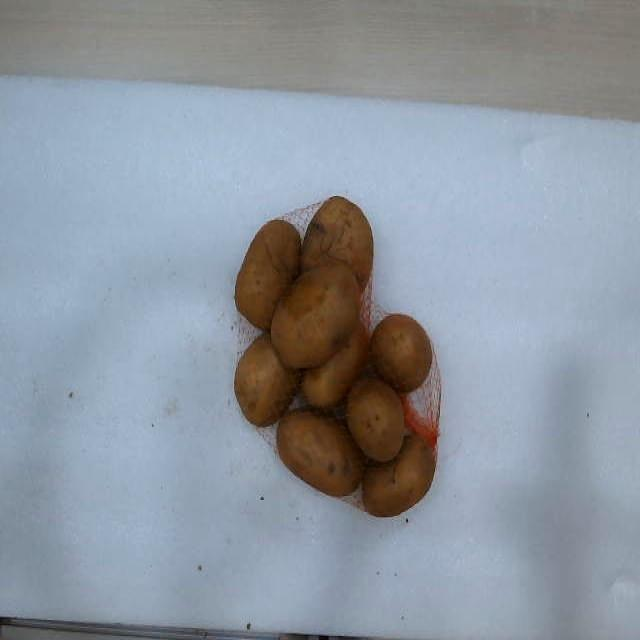potato: (271, 262, 361, 368), (278, 410, 365, 496), (235, 220, 300, 329), (301, 197, 374, 288), (234, 333, 298, 426), (301, 323, 369, 408), (362, 437, 432, 517), (348, 378, 404, 461), (371, 315, 432, 391)
